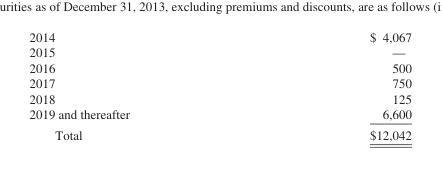table: (28, 29, 410, 141)
table column: (28, 29, 248, 141), (248, 29, 410, 141)
table row: (28, 106, 410, 124), (28, 124, 410, 141), (28, 59, 410, 75), (28, 90, 410, 106), (28, 29, 410, 44), (28, 44, 410, 59), (28, 75, 410, 90)
